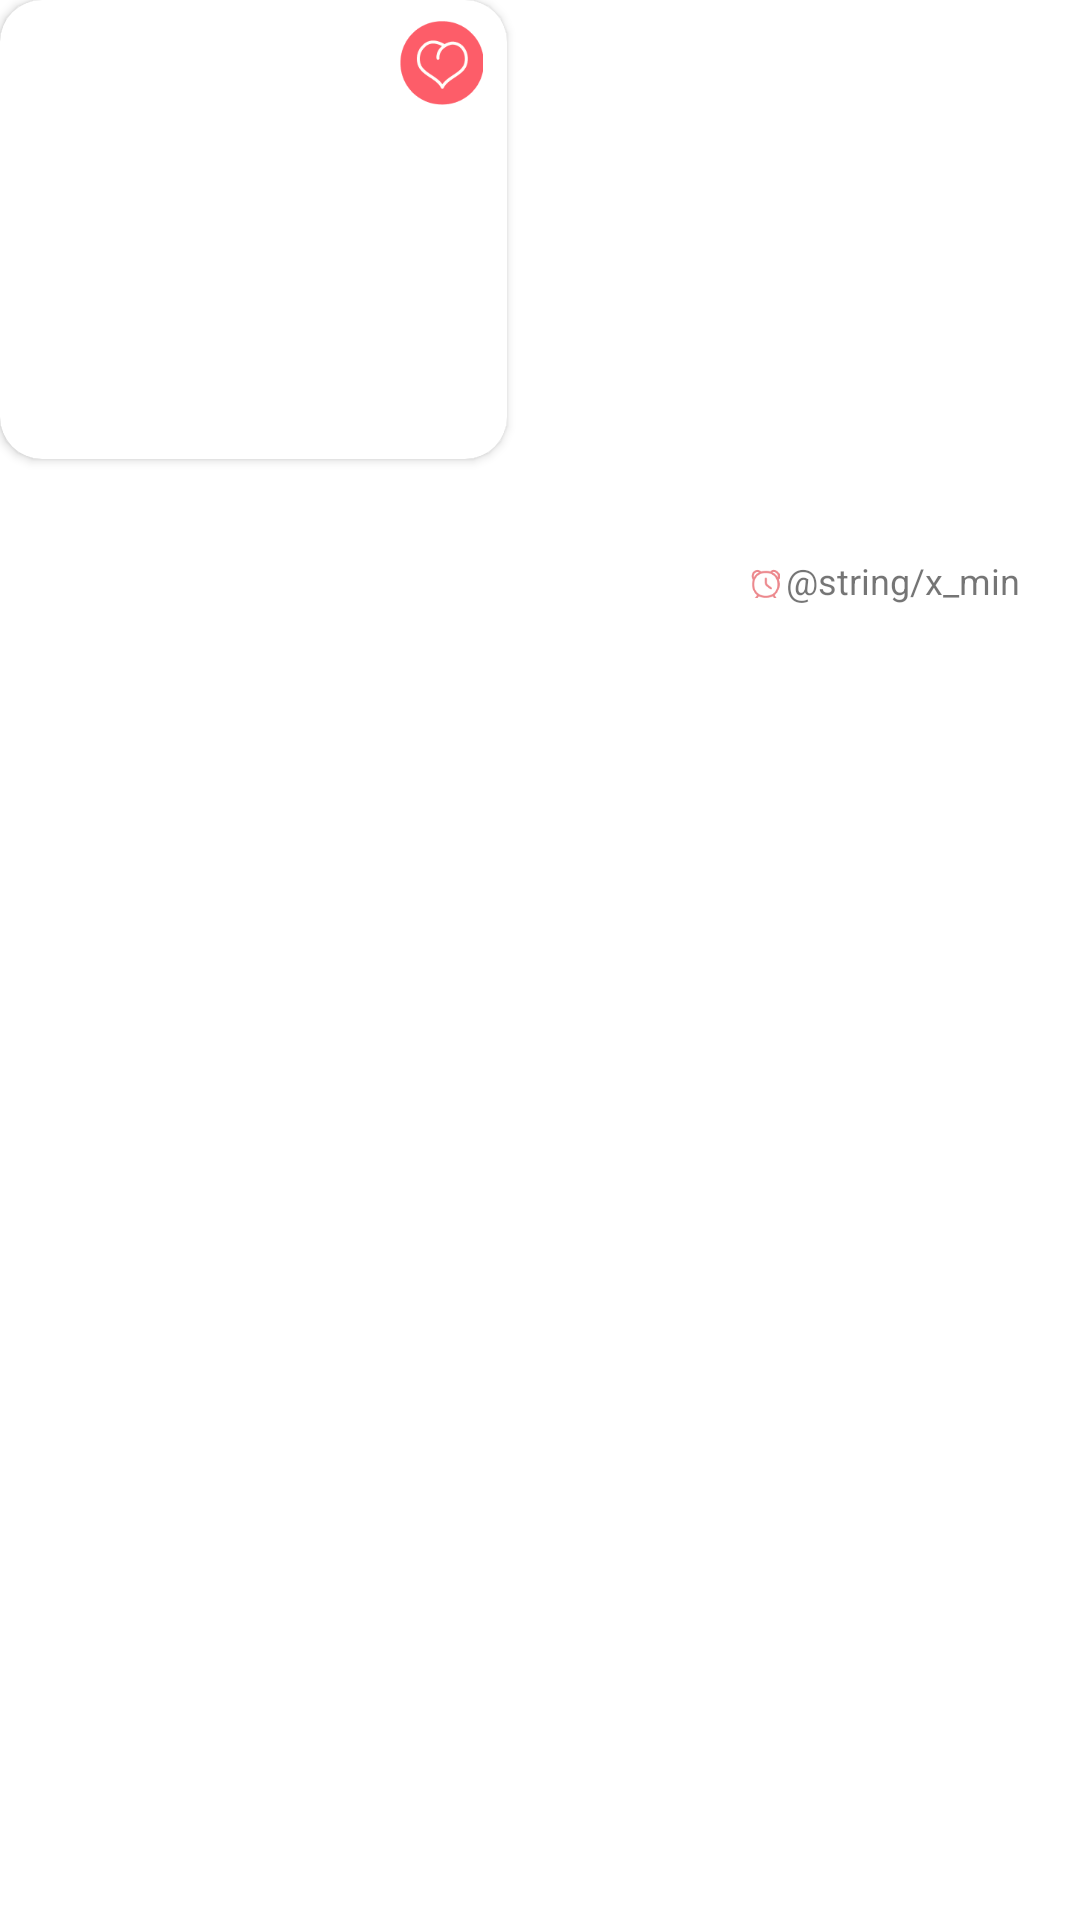

Where to tap for icons on this 1080×1920 app screen, as point (x, y):
fav: point (441, 63)
timer: point (765, 584)
